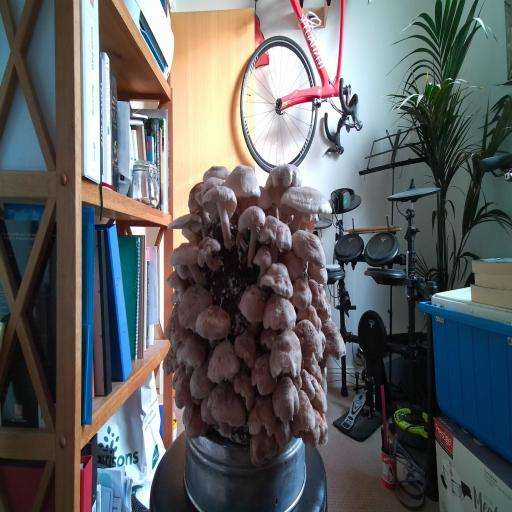Shiitake Mushroom: (190, 166, 259, 252), (265, 168, 344, 236), (250, 148, 315, 214), (164, 270, 223, 341), (247, 202, 306, 272), (196, 331, 252, 401), (158, 229, 223, 289), (218, 152, 270, 225), (187, 290, 239, 357), (283, 309, 335, 374), (226, 194, 271, 268), (230, 276, 277, 338), (265, 369, 306, 431), (292, 406, 336, 458), (244, 349, 282, 406), (260, 290, 300, 341), (226, 364, 266, 414), (254, 258, 301, 300), (228, 321, 265, 371), (245, 421, 282, 470), (184, 358, 218, 407), (243, 239, 280, 284), (184, 178, 213, 235), (207, 383, 245, 426), (287, 386, 318, 438), (270, 329, 302, 377), (291, 365, 324, 404), (248, 394, 277, 438), (179, 330, 209, 372), (291, 299, 329, 332), (196, 233, 226, 274), (181, 399, 210, 441), (305, 383, 337, 421), (155, 345, 185, 383), (289, 272, 316, 314), (322, 316, 346, 362), (248, 182, 280, 215), (171, 370, 195, 412), (195, 170, 229, 197), (196, 394, 218, 432), (272, 417, 294, 452), (258, 323, 279, 352), (201, 163, 232, 182), (303, 352, 319, 377), (319, 413, 331, 445), (235, 231, 249, 252)
